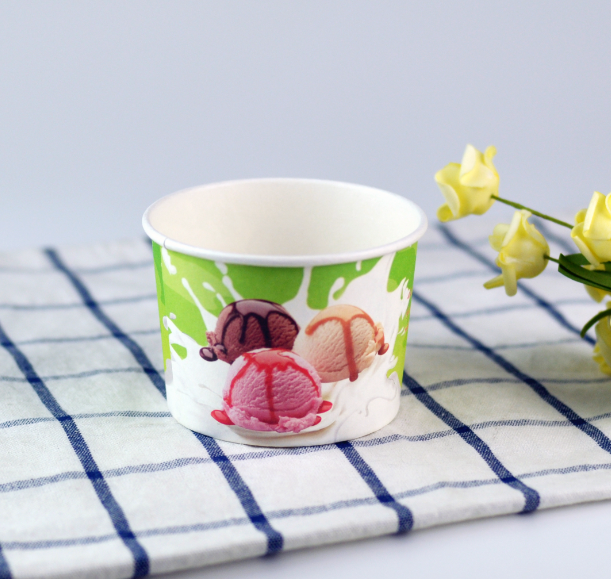PaperCup: (138, 174, 430, 453)
